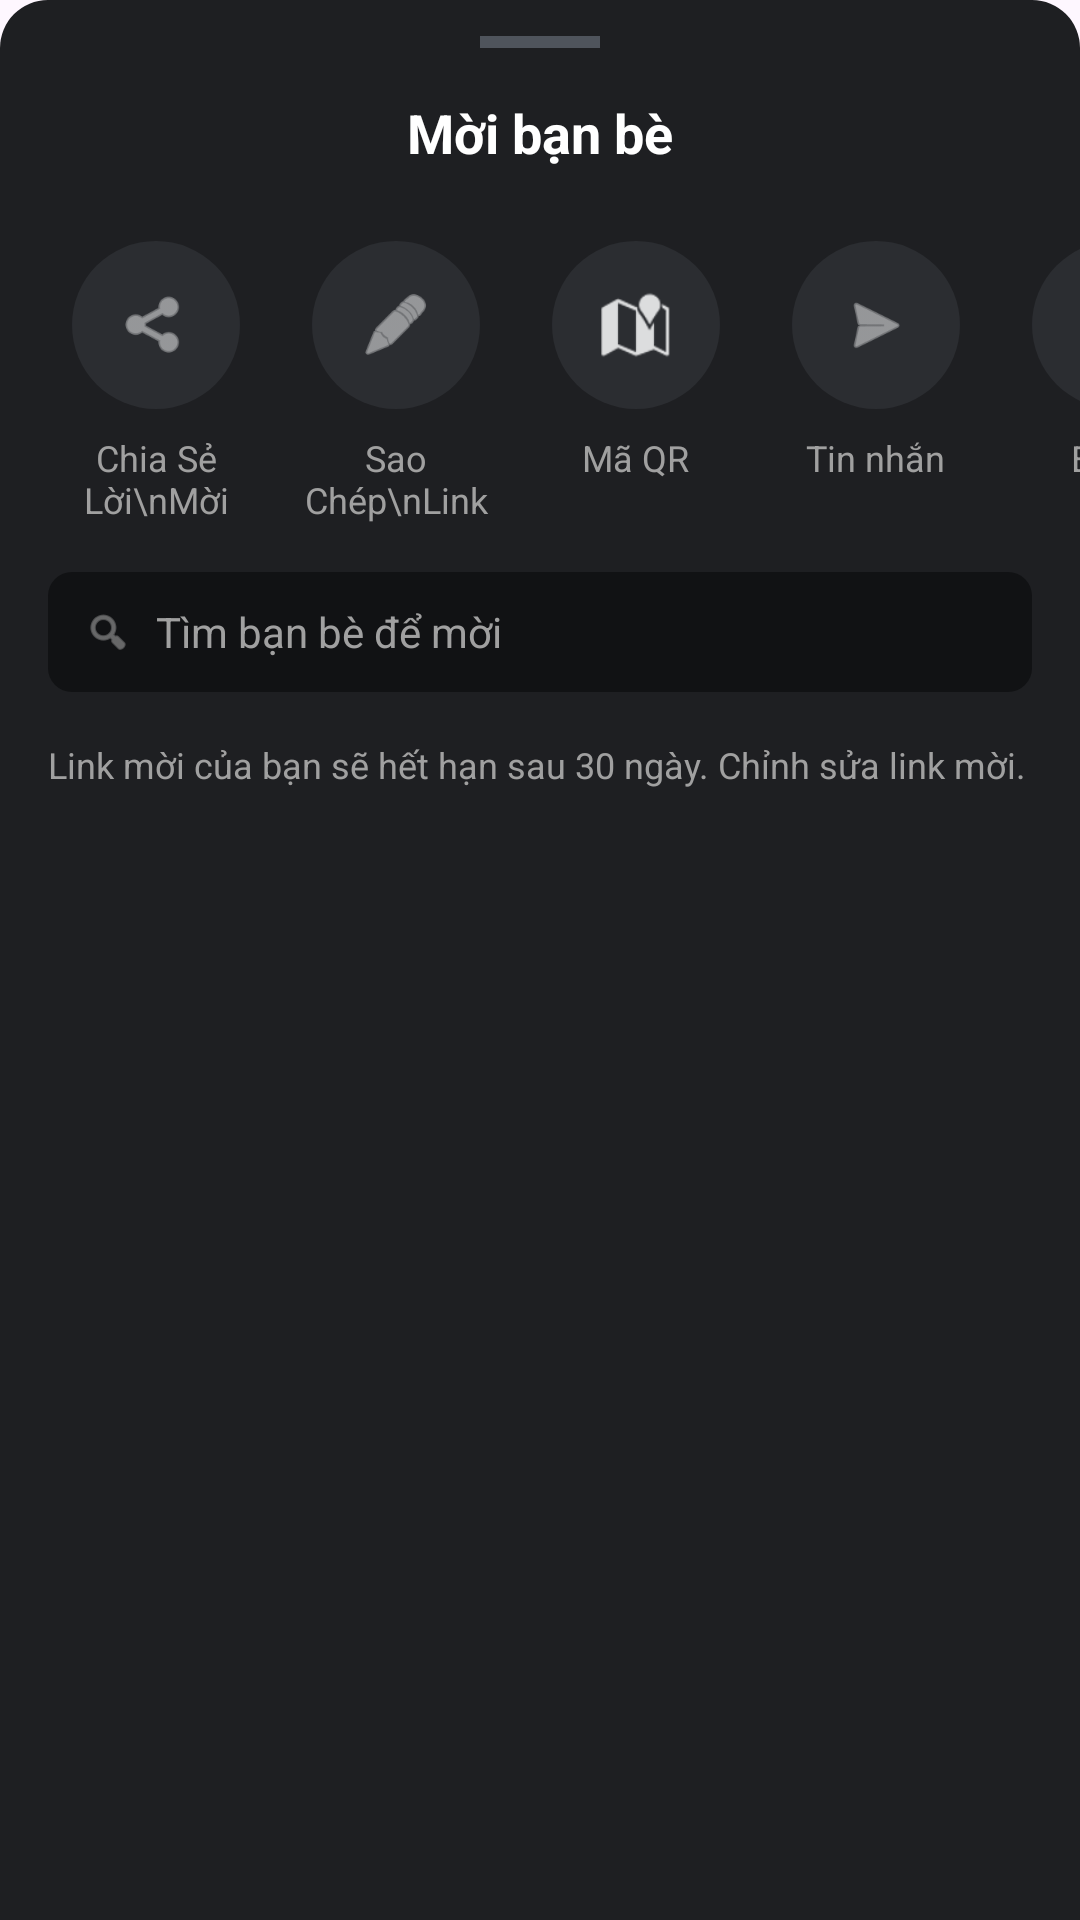

Where icons sit on this 1080*1920 app screen, as bbox=(x1, y1, x2, y2):
edit: bbox=(312, 241, 480, 409)
map: bbox=(601, 293, 670, 357)
search: bbox=(90, 615, 126, 650)
send: bbox=(853, 302, 900, 348)
